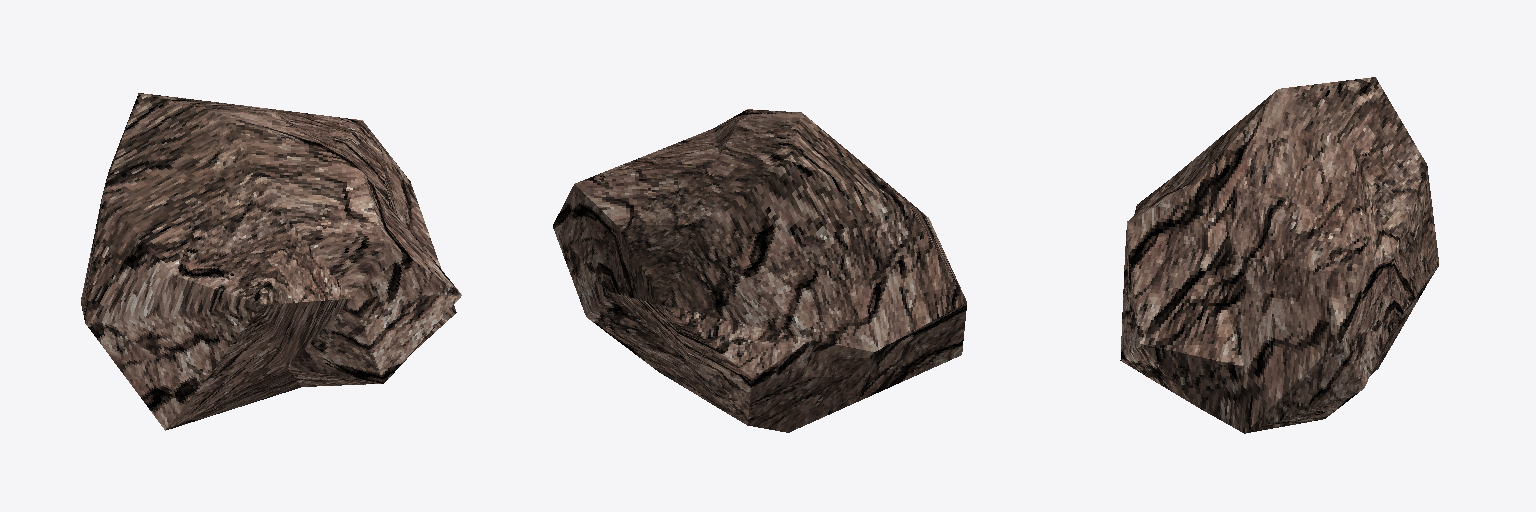
3 renders of one model, left to right at view 1: azimuth 30°, elevation 25°; view 2: azimuth 150°, elevation 25°; view 3: azimuth 270°, elevation 25°, orthographic.
Parts seen in each view (by area): view 1: GeoSphere003; view 2: GeoSphere003; view 3: GeoSphere003.
Boxes of the visible parts, x1=… form: GeoSphere003: x1=81, y1=93, x2=461, y2=430; GeoSphere003: x1=553, y1=109, x2=966, y2=432; GeoSphere003: x1=1120, y1=77, x2=1438, y2=433.
Bounding box in the file's own units: 21.61 × 16.85 × 16.13.
1 materials, 1 textured.